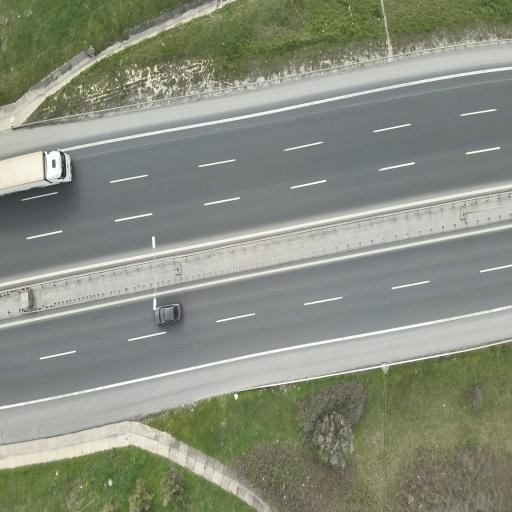car: (0, 150, 70, 195), (154, 303, 180, 324)
